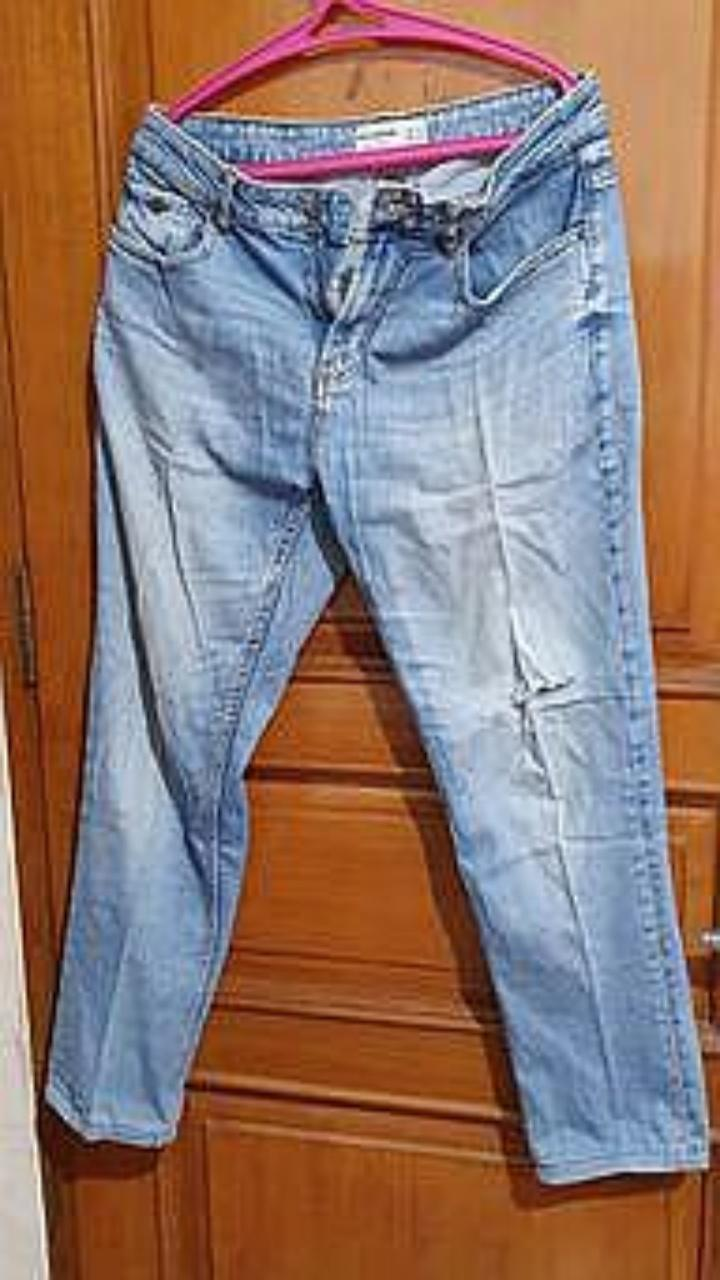Jeans: (45, 71, 708, 1182)
